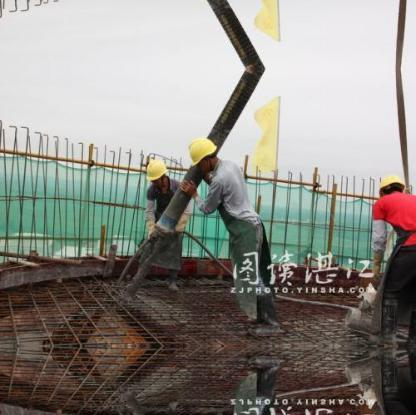helmet: (372, 173, 408, 199), (189, 135, 213, 167), (142, 156, 167, 182)
